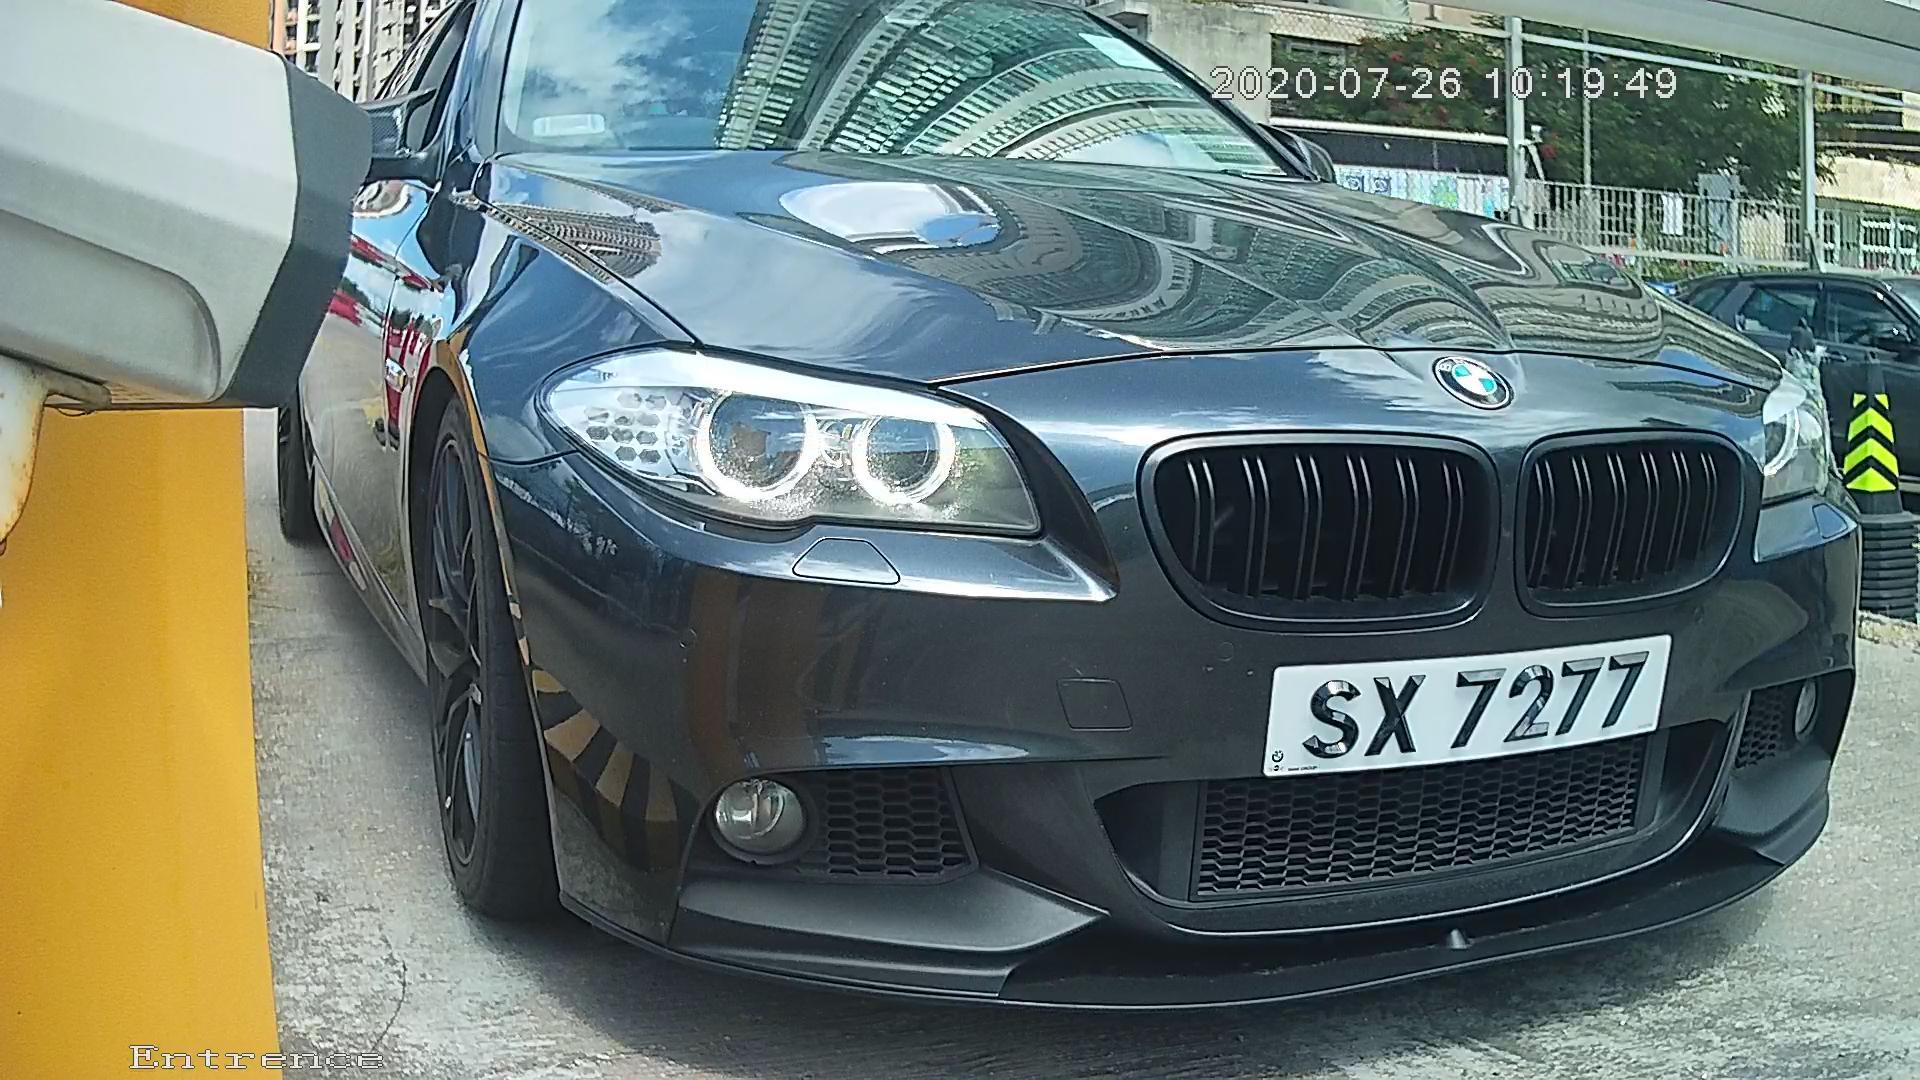privatecar: (284, 49, 1844, 1007)
